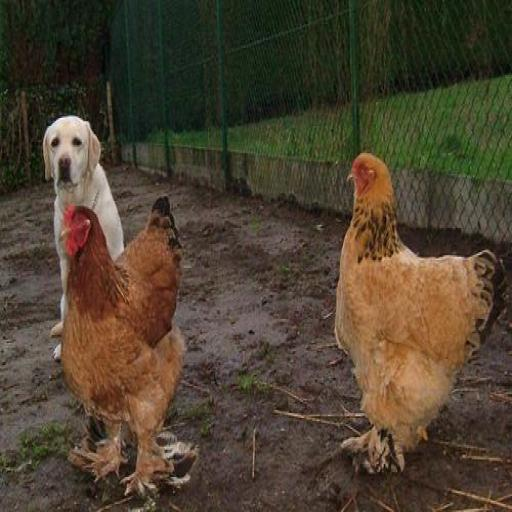dog_face: (41, 118, 102, 193)
